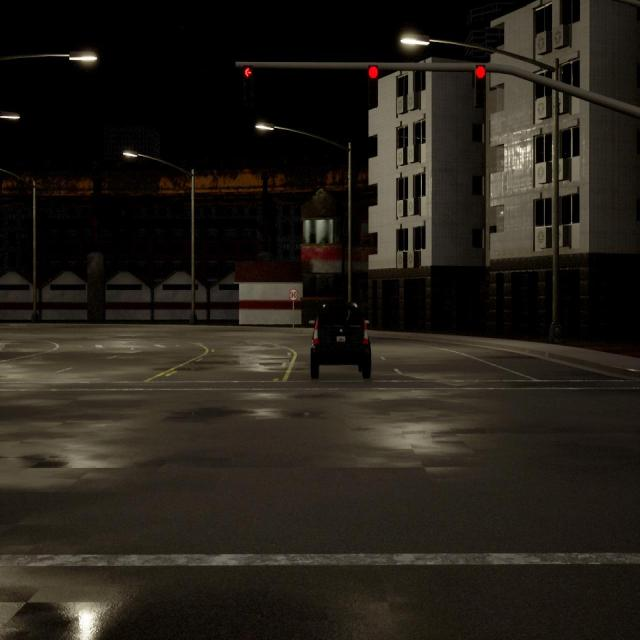Traffic_Signs: (289, 290, 297, 300)
Vehicle: (310, 302, 370, 378)
traffic_light: (475, 64, 485, 106), (243, 66, 253, 103), (369, 66, 378, 104)
